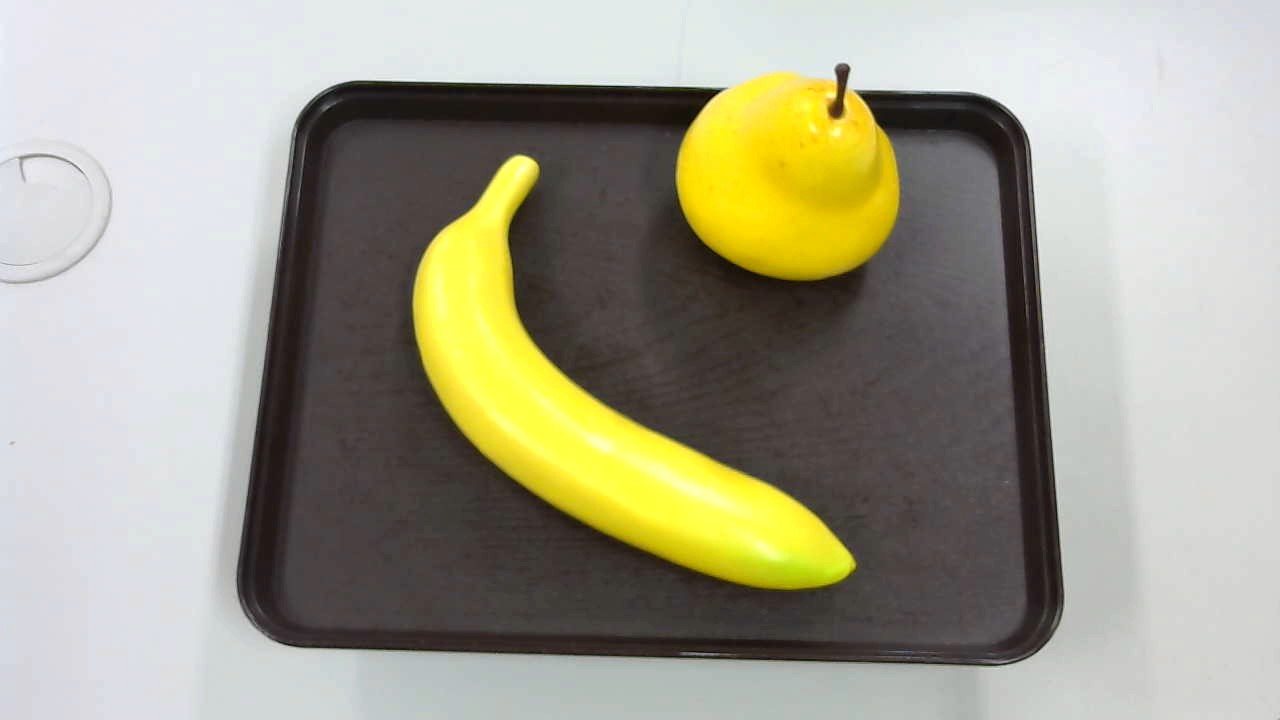banana: (407, 155, 866, 602)
yellow pear: (677, 62, 909, 281)
